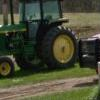Tractor: (4, 6, 90, 82)
